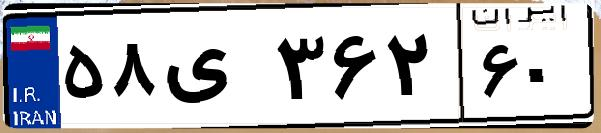0: (525, 38, 570, 115)
2: (385, 28, 445, 110)
3: (270, 28, 330, 110)
5: (57, 26, 110, 100)
6: (330, 28, 385, 110), (475, 38, 525, 113)
8: (110, 28, 158, 98)
ی: (158, 20, 270, 120)
